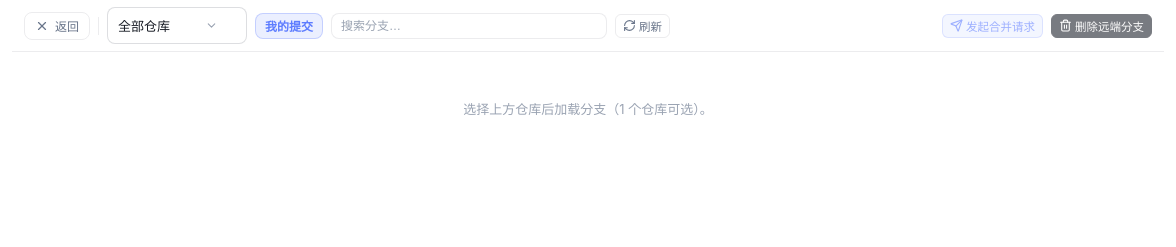
PendingMrView › disables the delete action until a deletable branch is selected
The image size is (1176, 247).
Click the dropdown labelled "全部仓库" at (177, 26), box [107, 7, 247, 44]
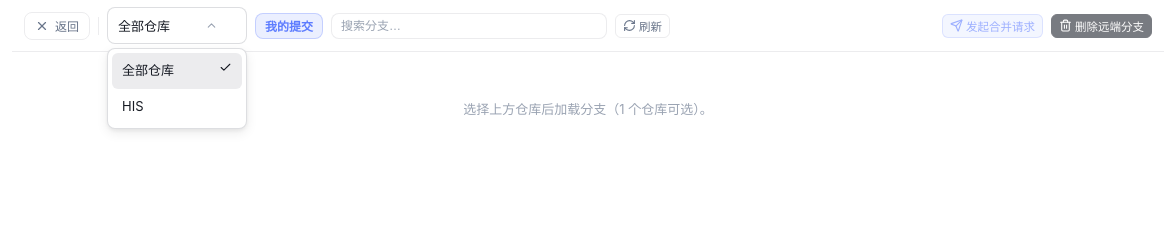
Click the option "HIS" at (133, 106), box [122, 98, 144, 114]
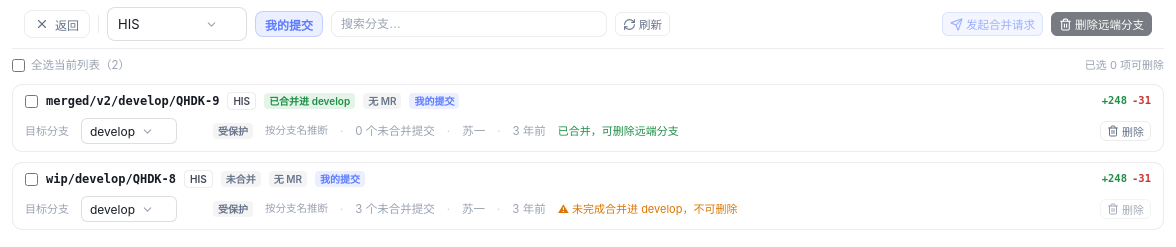
Expected: the button "删除远端分支" is disabled, [1051, 12, 1152, 36]
Expected: the text "merged/v2/develop/QHDK-9" is shown, [46, 92, 219, 110]
Click the checkbox named "wip/develop/QHDK-8" at (32, 179), box [25, 173, 38, 186]
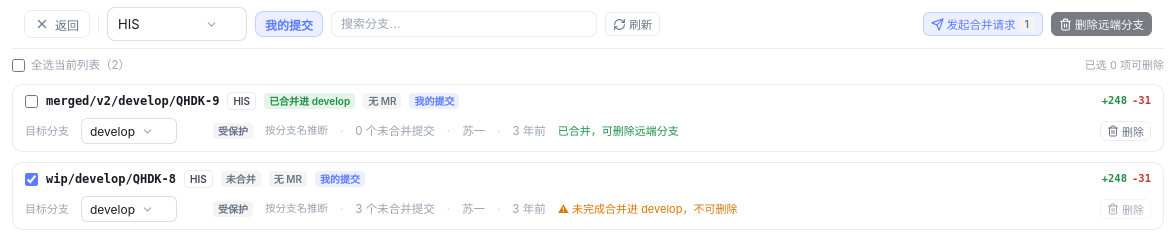
Expected: the button "删除远端分支" is disabled, [1051, 12, 1152, 36]
Click the checkbox named "merged/v2/develop/QHDK-9" at (32, 101), box [25, 95, 38, 108]
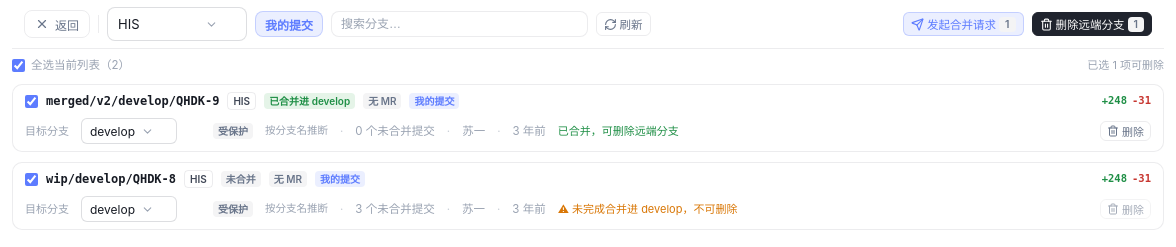
Expected: the button "删除远端分支 1" is enabled, [1032, 12, 1152, 36]
